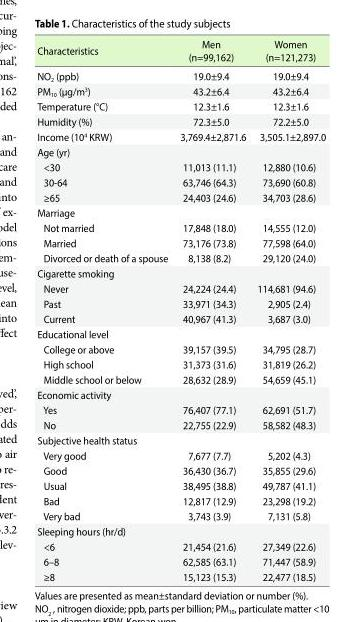table: (36, 37, 325, 582)
table column: (36, 37, 173, 582), (173, 37, 251, 582), (251, 37, 325, 582)
table column header: (36, 37, 325, 65)
table projected row header: (36, 325, 325, 341), (36, 143, 325, 158), (36, 204, 325, 219), (36, 265, 325, 280), (36, 386, 325, 401), (36, 432, 325, 447), (36, 523, 325, 538)
table row: (36, 37, 325, 65), (36, 65, 325, 83), (36, 158, 325, 174), (36, 234, 325, 250), (36, 325, 325, 341), (36, 416, 325, 432), (36, 507, 325, 523), (36, 83, 325, 98), (36, 98, 325, 113), (36, 113, 325, 128), (36, 128, 325, 143), (36, 143, 325, 158), (36, 174, 325, 189), (36, 189, 325, 204), (36, 204, 325, 219), (36, 219, 325, 234), (36, 250, 325, 265), (36, 265, 325, 280), (36, 280, 325, 295), (36, 295, 325, 310), (36, 310, 325, 325), (36, 341, 325, 356), (36, 356, 325, 371), (36, 371, 325, 386), (36, 386, 325, 401), (36, 401, 325, 416), (36, 432, 325, 447), (36, 447, 325, 462), (36, 462, 325, 477), (36, 477, 325, 492), (36, 492, 325, 507), (36, 523, 325, 538), (36, 538, 325, 553), (36, 553, 325, 568), (36, 568, 325, 582)
